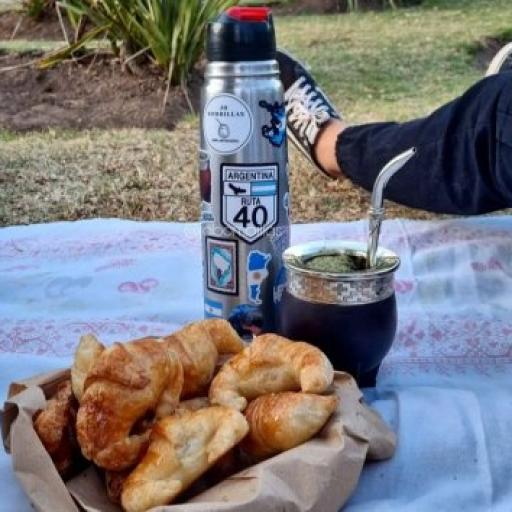bolleria: (77, 337, 182, 468), (121, 406, 244, 511), (210, 333, 333, 410), (242, 391, 337, 461), (162, 320, 240, 399)
mate: (278, 150, 415, 385)
termo: (200, 7, 288, 339)
